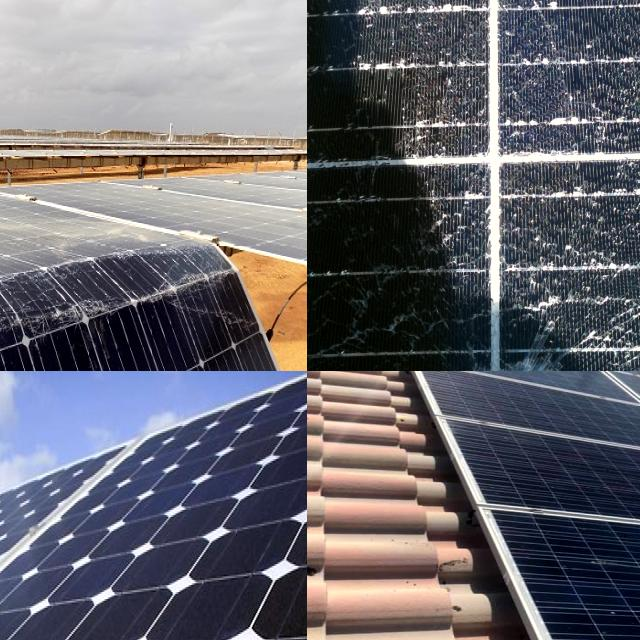crack: (0, 371, 307, 640)
dust: (555, 543, 640, 640)
hotspot: (0, 222, 214, 371), (422, 332, 587, 371)
